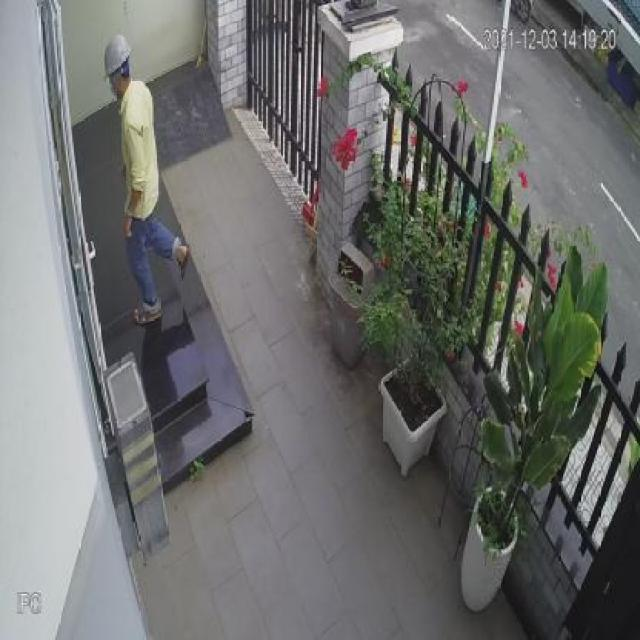Manusia: (105, 34, 189, 326)
